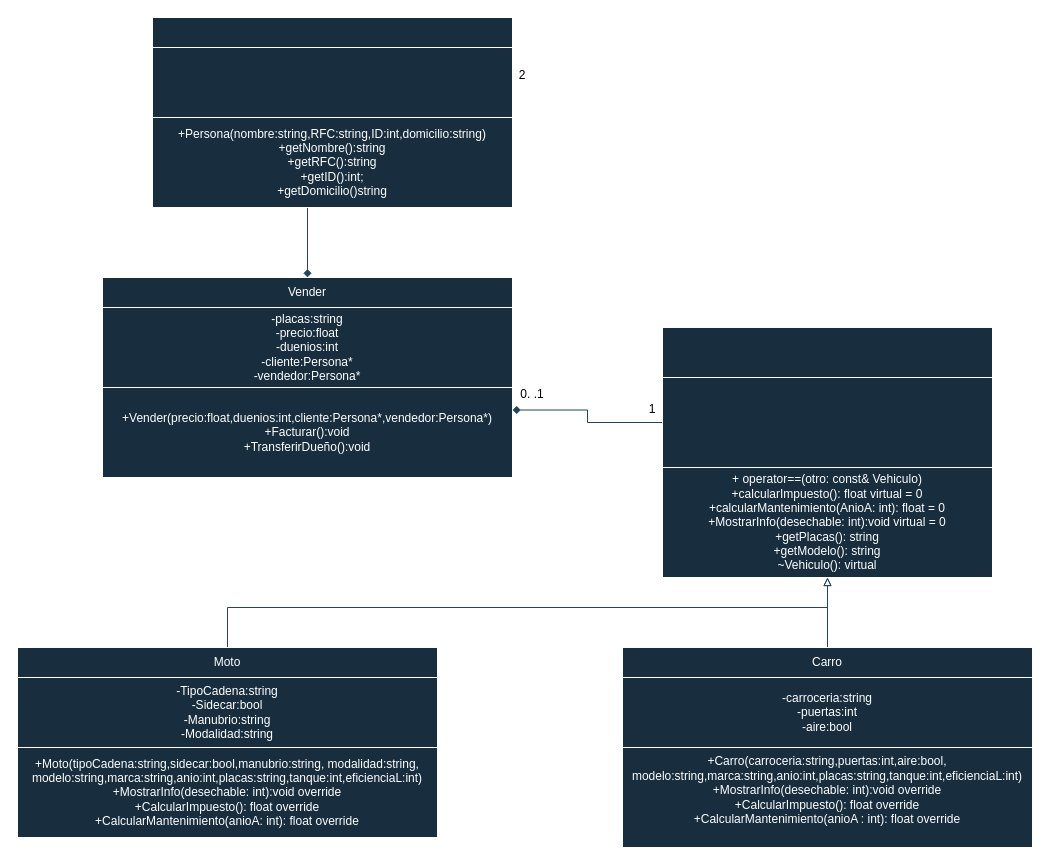
Some shapes in this 1050 by 865 pixel diagram are drawn without their labels. The shapes that lost their labels are listed below. From the top down, each one's box as (x1, y1, x2, y2) in pixels, then its label:
(152, 16, 512, 48): Persona
(152, 46, 512, 118): -nombre:string -RFC:string -ID:int -domicilio:string
(662, 326, 992, 378): abstract Vehiculo
(662, 376, 992, 468): #modelo: string #anio:int #placas:string #tanque:int #eficienciaL:int
